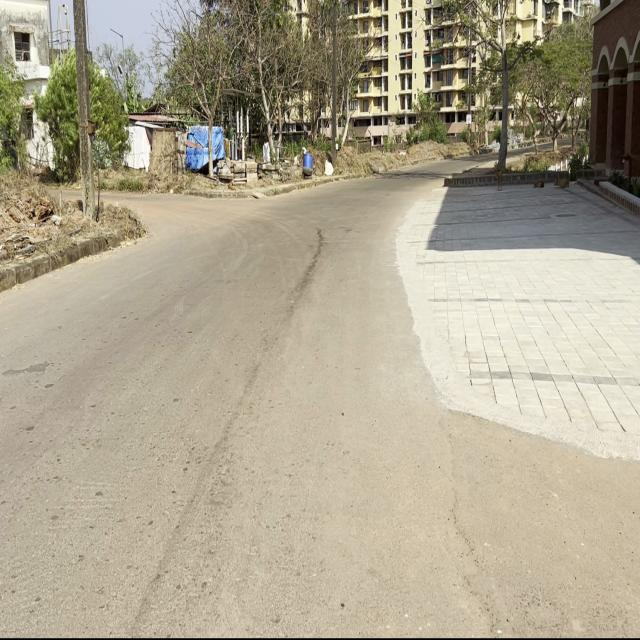Road: (0, 171, 486, 639)
